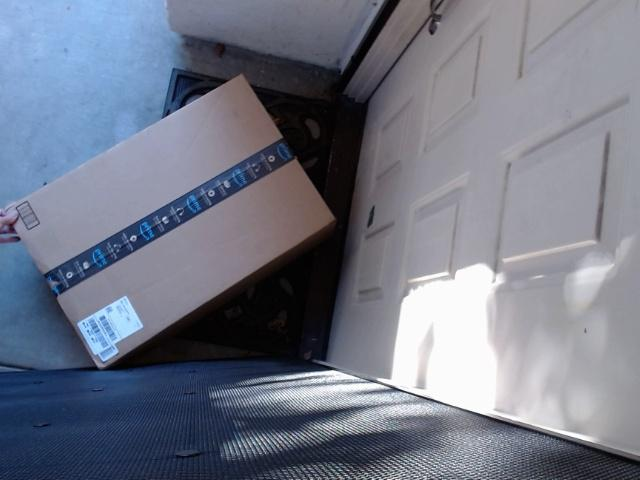box: (2, 73, 339, 369)
